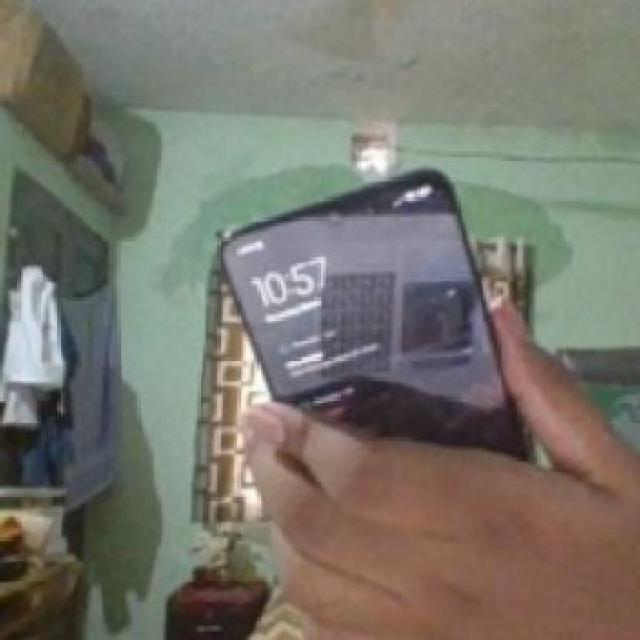Phone: (217, 166, 533, 460)
